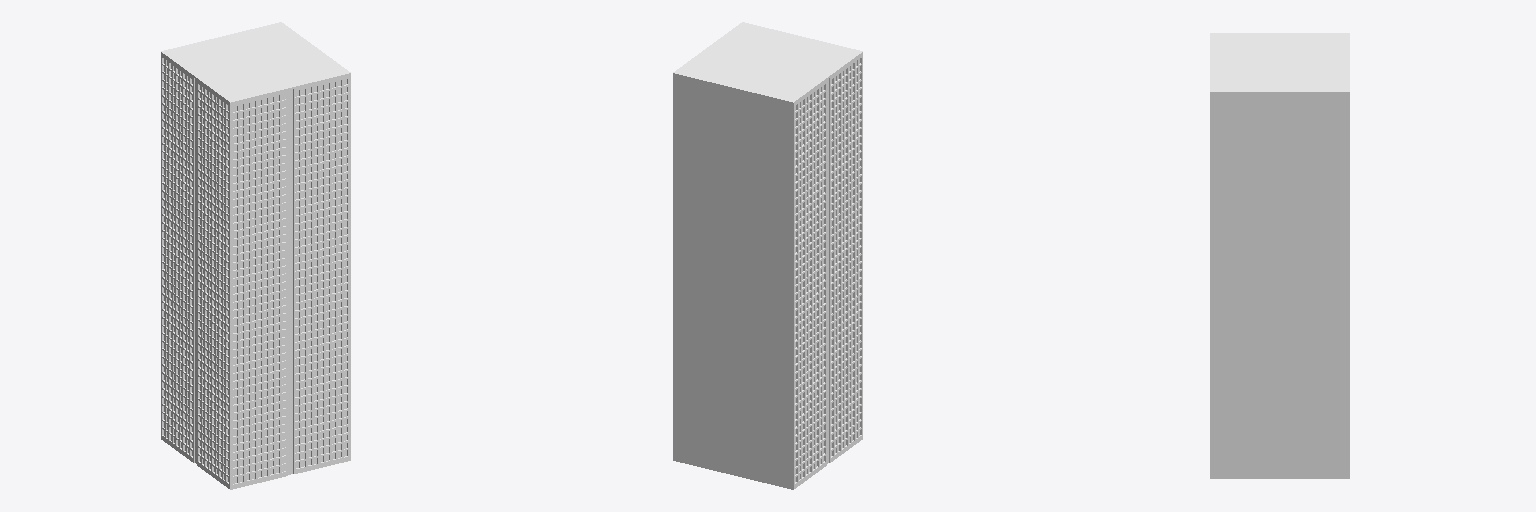
File: skyscraper2.obj
3 views of the same model, side by side, from view 1: azimuth 30°, elevation 25°; view 2: azimuth 150°, elevation 25°; view 3: azimuth 270°, elevation 25° (orthographic).
Visible parts, largest first — view 1: object 1; view 2: object 1; view 3: object 1.
Part boxes in pixels (left/top/right/bottom): object 1: left=161, top=22, right=350, bottom=489; object 1: left=673, top=22, right=862, bottom=489; object 1: left=1210, top=33, right=1349, bottom=478.
Bounding box in the file's own units: 8 × 24.5 × 8.